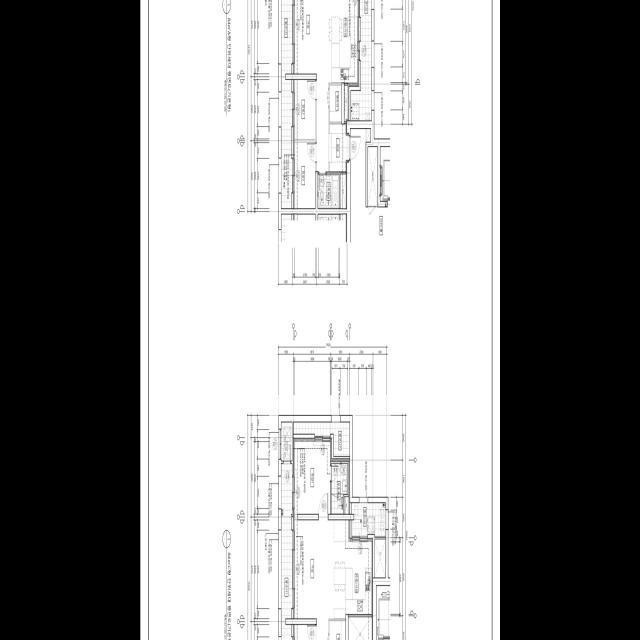background: (140, 0, 500, 640)
space_balconi: (351, 0, 371, 121), (281, 0, 292, 209), (281, 464, 292, 640), (293, 422, 349, 456), (352, 503, 385, 537)
space_bedroom: (293, 439, 331, 514), (293, 143, 315, 209), (293, 80, 315, 139), (293, 625, 315, 640)
space_elevator: (376, 586, 390, 640), (380, 147, 390, 201)
space_elevator_hall: (350, 129, 391, 242)
space_kitchen: (328, 520, 372, 619), (328, 0, 359, 86), (328, 124, 348, 172)
space_living_room: (293, 0, 328, 172), (293, 520, 328, 640)
space_other: (348, 617, 372, 640), (368, 147, 377, 206), (329, 86, 341, 122), (281, 422, 292, 461), (374, 539, 385, 578), (329, 621, 345, 640), (340, 174, 346, 209), (344, 86, 348, 121), (344, 497, 349, 514), (366, 129, 370, 142)
space_toilet: (331, 463, 347, 514), (318, 175, 339, 208)
